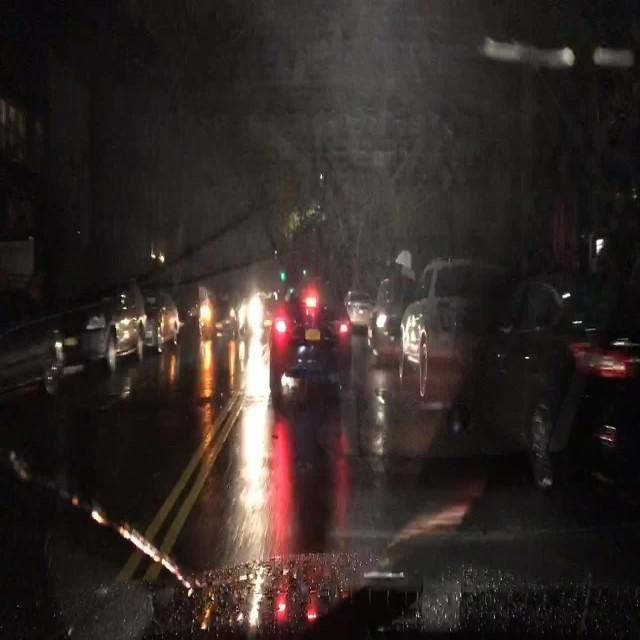normal: (372, 186, 613, 520), (243, 253, 352, 408)
